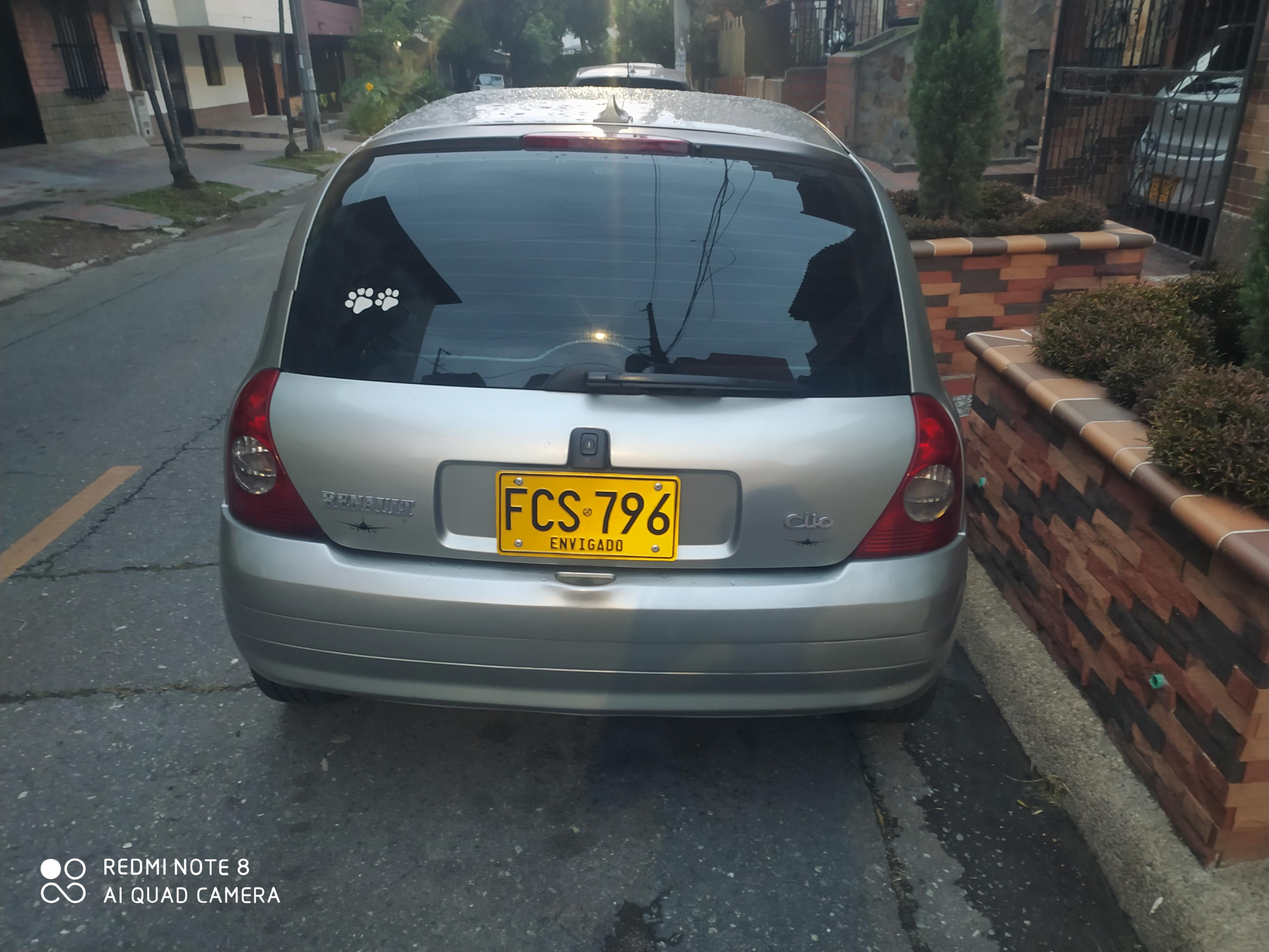placa: (486, 466, 686, 570)
